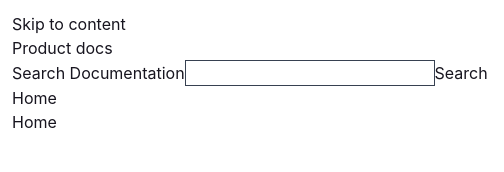
Scenario: PublicDocumentationReaderPage › shows a truthful search error, clears loading, and supports retry
Type "home" into the search field at (310, 73), box x1=185 y1=60 x2=435 y2=86
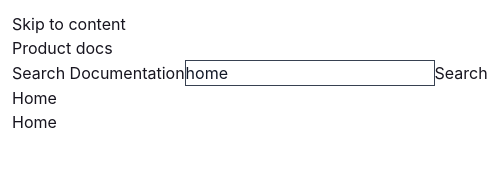
Submit the form, box x1=12 y1=60 x2=488 y2=86
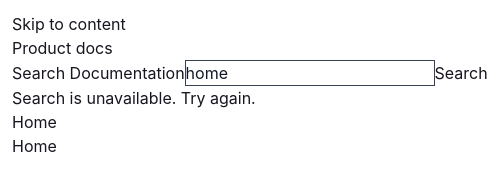
Result: the message shows "Search is unavailable" at x1=12 y1=88 x2=256 y2=108
Submit the form, box x1=12 y1=60 x2=488 y2=86
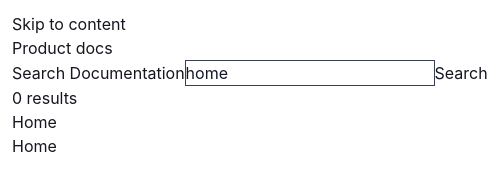
Result: the text "0 results" is shown at x1=12 y1=88 x2=77 y2=108
